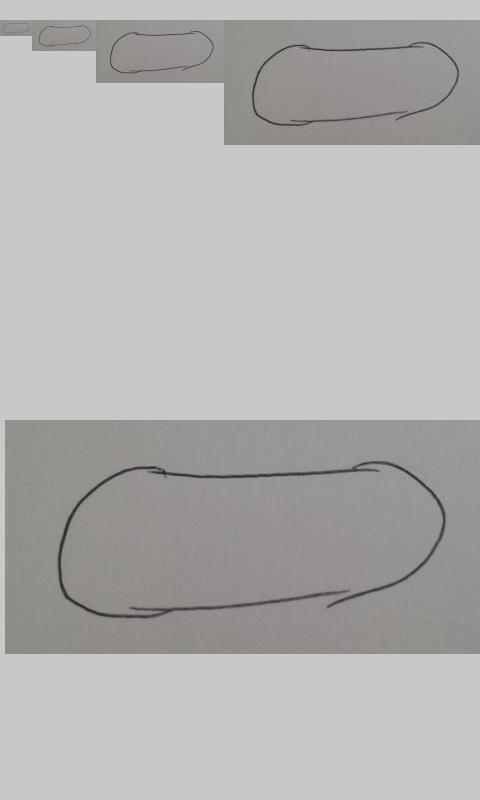chip: (55, 460, 450, 621), (251, 40, 459, 127), (108, 30, 216, 75), (38, 25, 92, 47), (2, 22, 31, 35)
